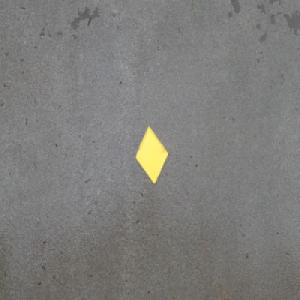PlasticPart: (134, 124, 169, 185)
